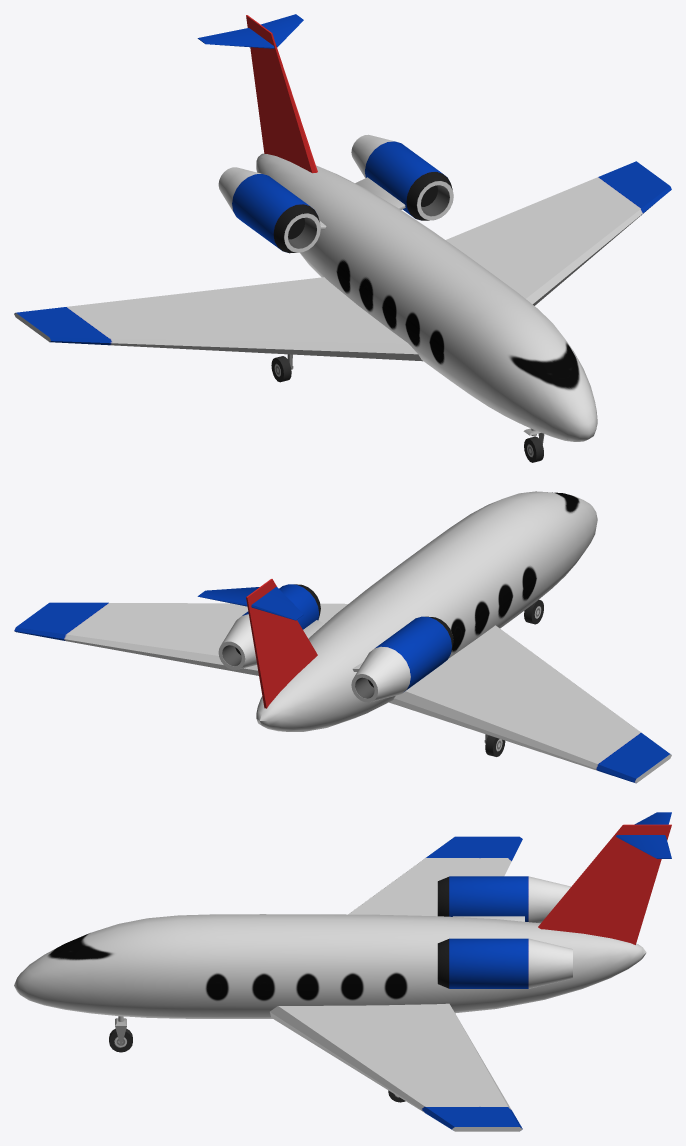
File: Airplane.fbx
3 renders of one model, top to bottom at view 1: azimuth 30°, elevation 25°; view 2: azimuth 150°, elevation 25°; view 3: azimuth 270°, elevation 25°, orthographic. The views are drawn at different scales.
Visible parts, largest first — view 1: Plane; view 2: Plane; view 3: Plane.
Boxes of the visible parts, x1=… form: Plane: x1=14, y1=14, x2=671, y2=462; Plane: x1=14, y1=491, x2=671, y2=783; Plane: x1=14, y1=812, x2=671, y2=1131.
Size of the model in its own units: 1215 by 441 by 1164.
1 material, 1 textured.
